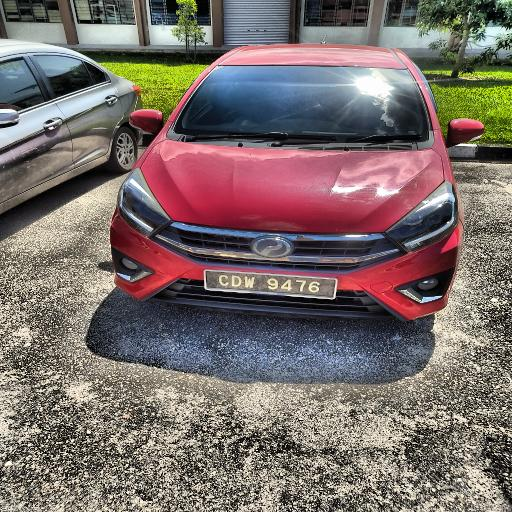license_plate: (203, 267, 336, 299)
